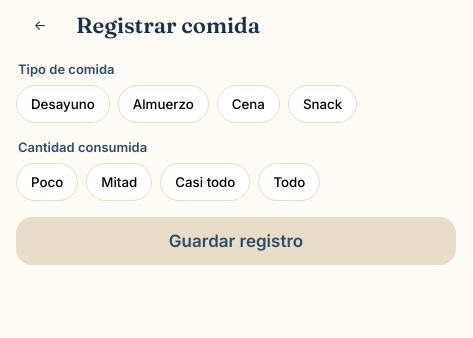
it: Caregiver -- registrar Care Event real (MEAL) › muestra copy humano cuando el backend responde 409 NO_ACTIVE_VISIT
This screenshot has width=473, height=338.
Click the button "Desayuno" at (63,104), box [16,85,110,123]
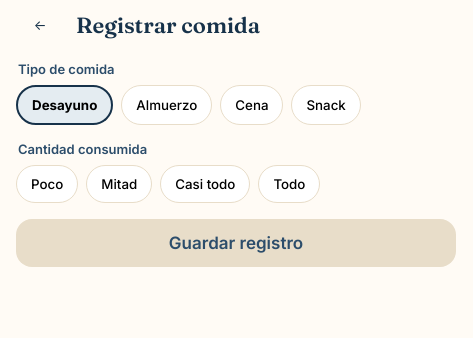
Click the button "Todo" at (289,184), box [258,165,320,203]
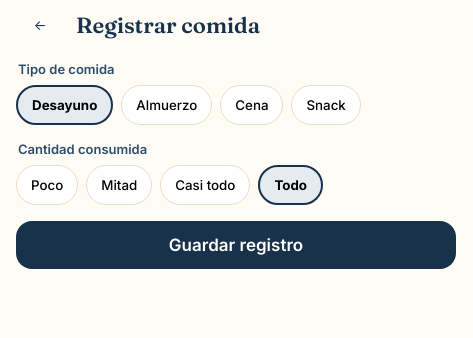
Click the button "Guardar registro" at (236,245), box [16,221,456,269]
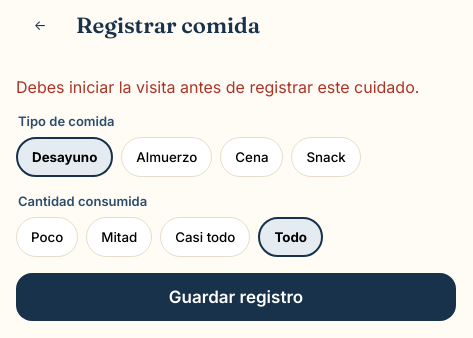
Now the text "Debes iniciar la visita antes de registrar este cuidado." is shown, box [16,77,456,97]
